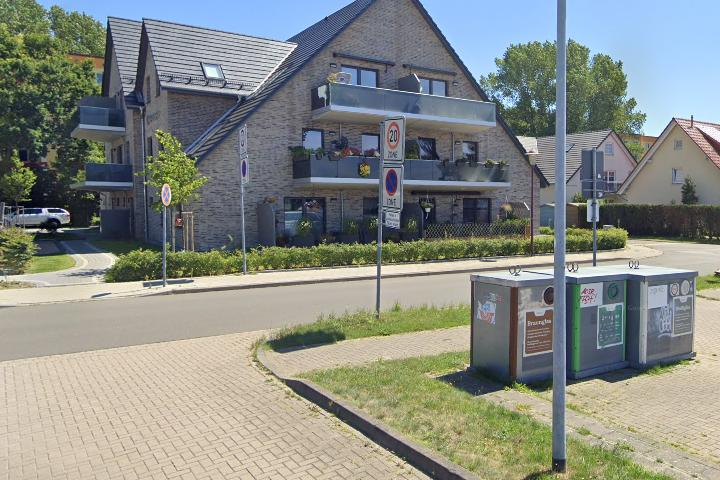traffic_sign: (386, 121, 401, 150), (385, 168, 398, 198), (161, 183, 171, 206)
vehicle: (1, 204, 74, 233)
